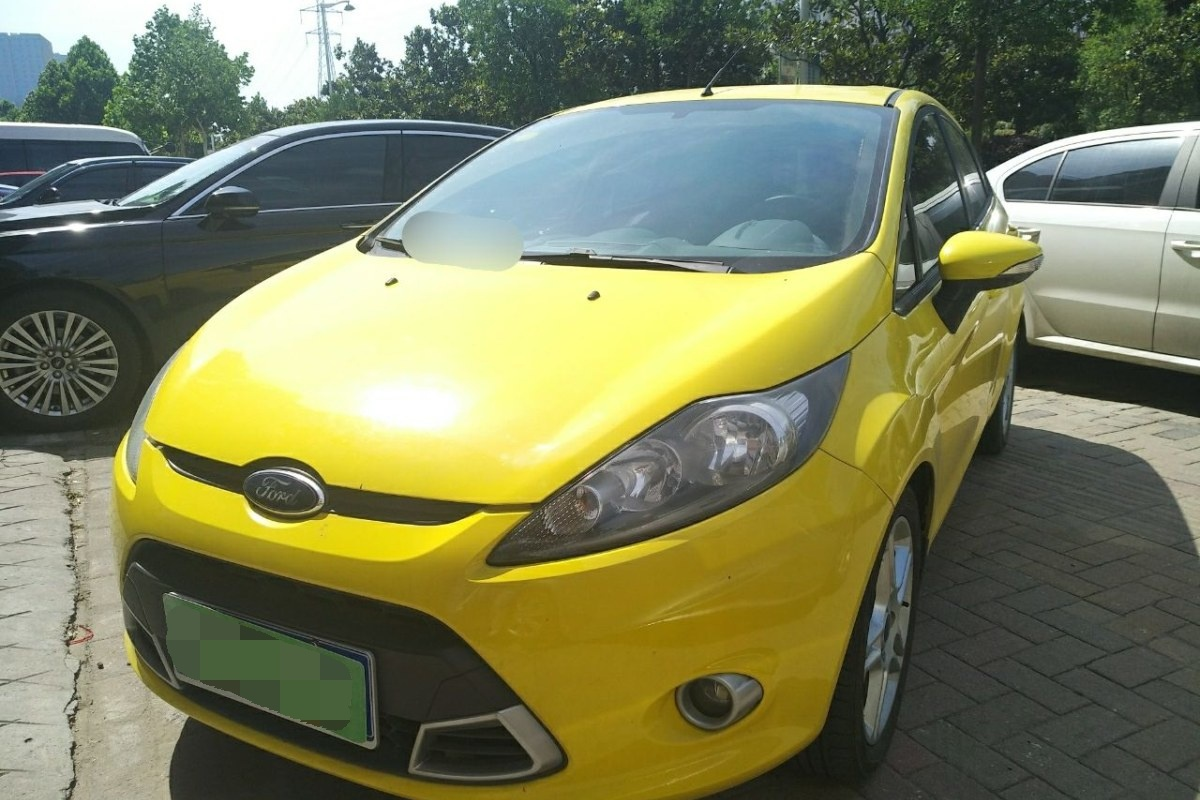family sedan: (119, 52, 1034, 782), (18, 98, 443, 424)
